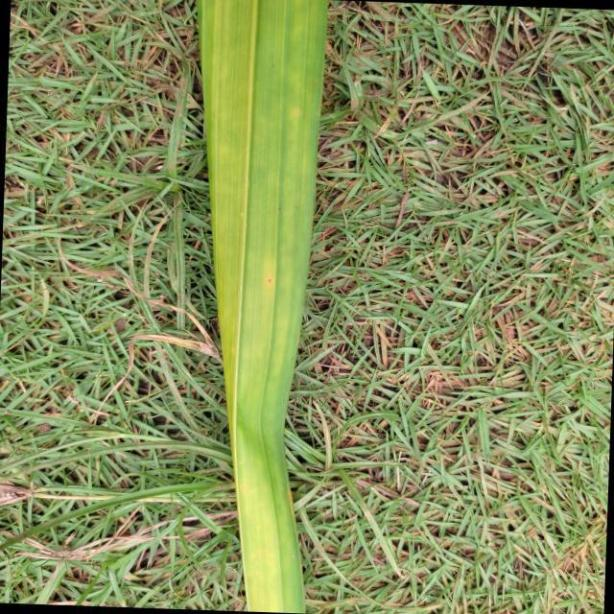nitrogen: (197, 0, 324, 614)
